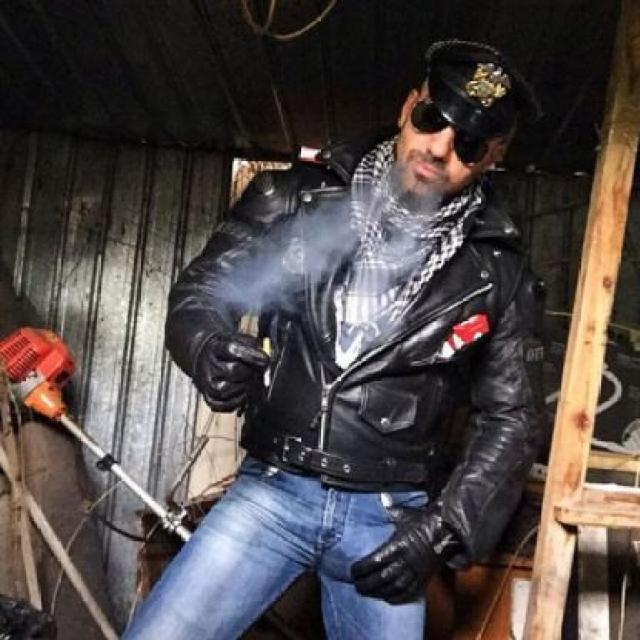rokok: (258, 331, 276, 393)
